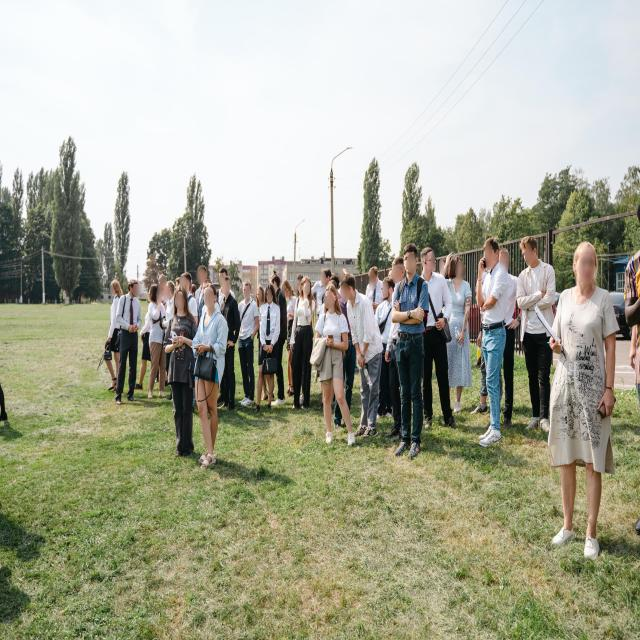Person: (548, 235, 618, 570), (471, 230, 507, 462), (419, 242, 461, 434), (340, 272, 386, 442), (521, 236, 557, 438), (190, 284, 226, 477), (395, 242, 425, 460), (318, 286, 352, 448), (440, 251, 472, 419), (168, 290, 194, 470), (114, 279, 144, 409), (254, 286, 281, 415), (291, 276, 315, 417), (144, 280, 168, 402), (238, 276, 258, 414), (265, 272, 285, 408), (219, 276, 237, 410), (104, 276, 120, 403), (280, 276, 294, 400), (379, 278, 393, 343), (366, 262, 382, 314), (164, 280, 176, 332), (390, 250, 404, 290), (498, 245, 514, 275), (174, 273, 192, 294), (195, 266, 214, 285), (218, 263, 232, 285), (156, 273, 168, 298), (254, 286, 266, 308), (320, 268, 332, 290)
